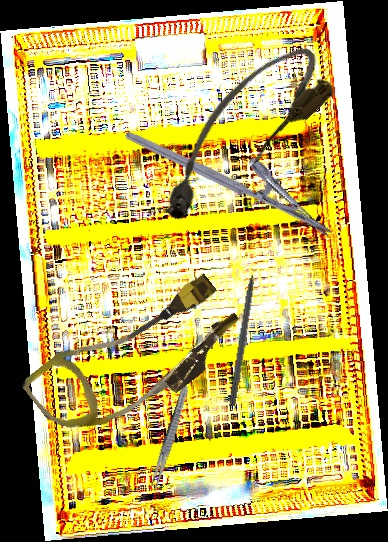Cannula: (19, 252, 252, 466), (135, 32, 344, 233)
Dressing Forceps: (148, 383, 191, 494)
Hook Surgical: (228, 256, 261, 407)
Needle Holder: (123, 101, 348, 240)
